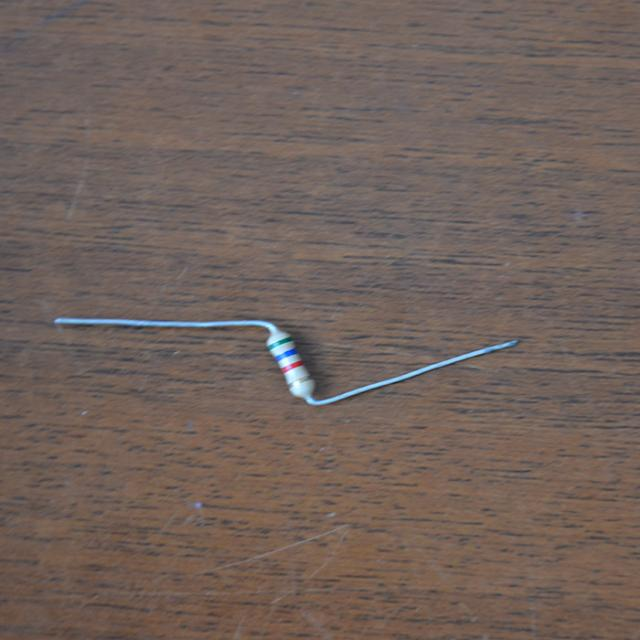blue: (276, 348, 295, 361)
gold: (288, 375, 311, 386)
green: (268, 336, 292, 350)
red: (282, 360, 300, 373)
